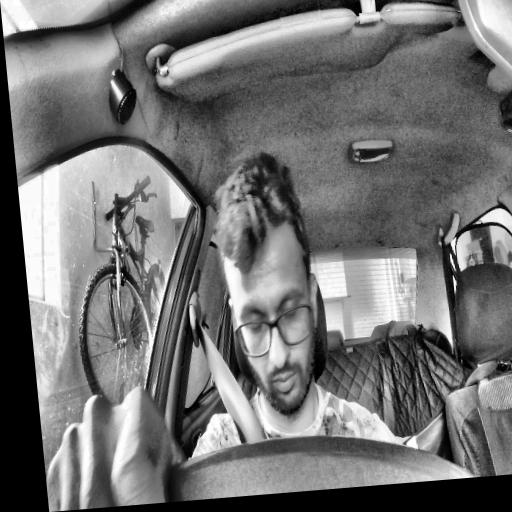drowsy: (210, 149, 329, 418)
